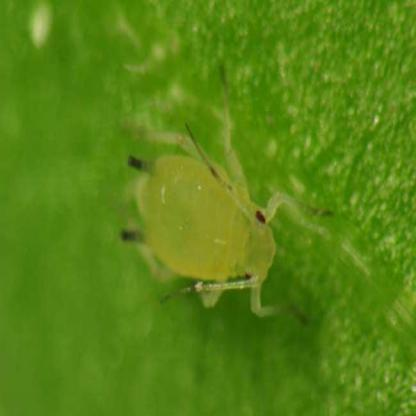aphid: (96, 74, 310, 339)
